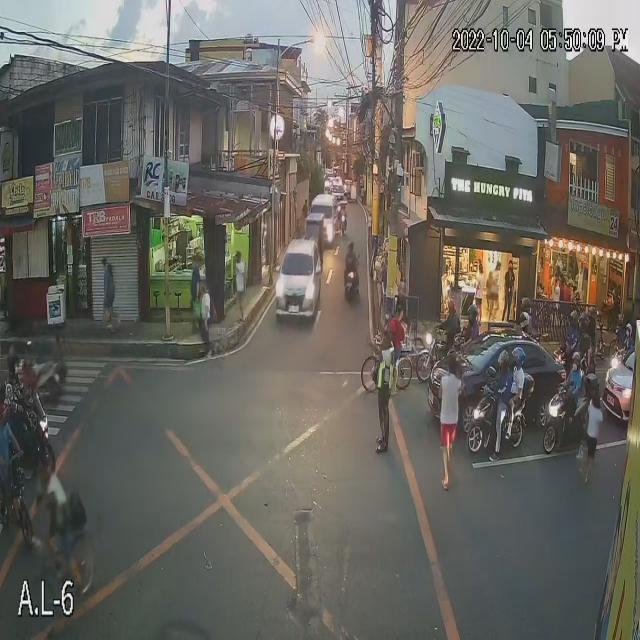helmet: (5, 345, 20, 375), (466, 305, 485, 323), (567, 353, 584, 371), (497, 351, 509, 376), (513, 345, 526, 367), (586, 306, 599, 325), (568, 312, 580, 328), (624, 322, 634, 336), (446, 298, 455, 312), (346, 239, 356, 251)
motorcycle: (467, 368, 527, 453), (8, 382, 56, 478), (542, 375, 601, 453), (0, 342, 60, 402), (558, 330, 610, 392), (416, 328, 461, 382), (344, 262, 359, 301)
rider: (2, 346, 27, 439), (491, 349, 512, 436), (506, 346, 528, 421), (557, 309, 582, 361), (511, 307, 544, 341), (439, 297, 458, 343), (462, 303, 483, 344), (618, 314, 636, 355), (584, 304, 601, 347), (345, 239, 359, 274)
